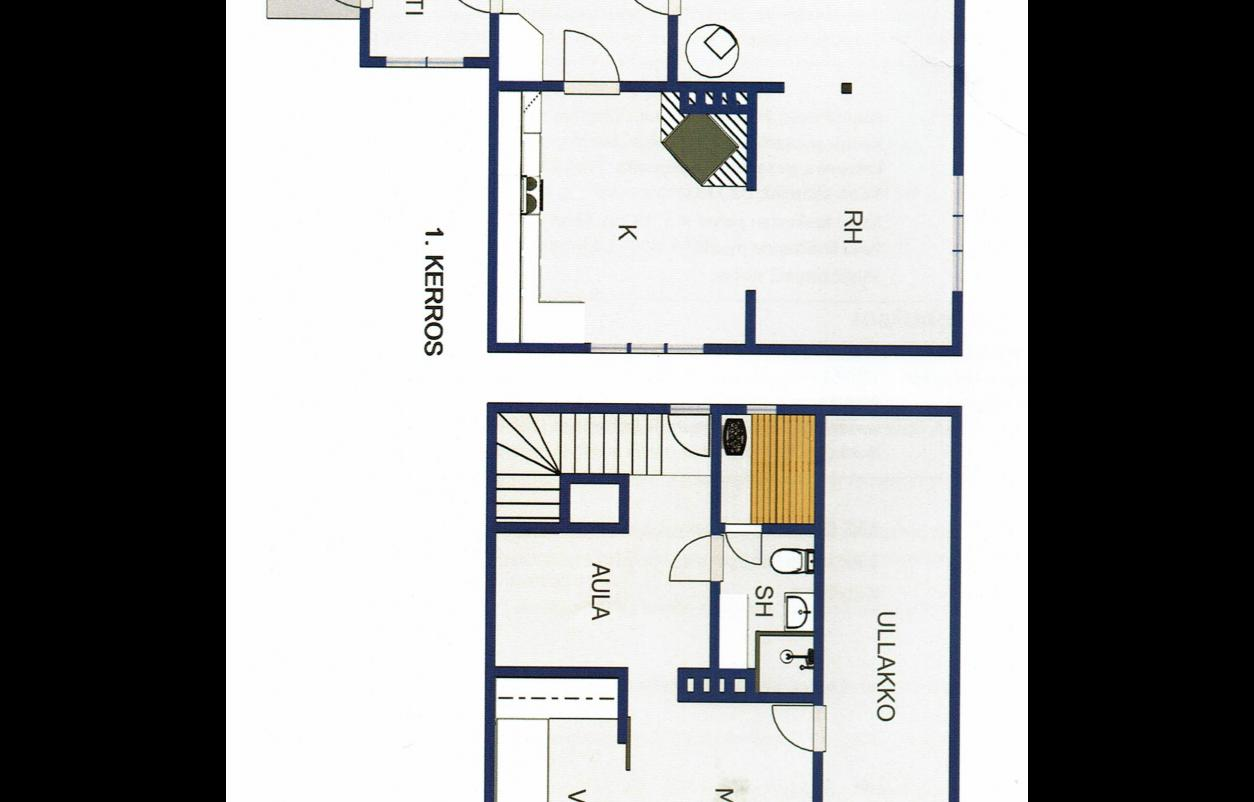door: (558, 28, 622, 96), (666, 528, 728, 588), (772, 702, 830, 760), (666, 398, 718, 462), (718, 519, 765, 567), (431, 0, 505, 16), (616, 0, 682, 17)
window: (944, 249, 976, 300), (666, 336, 714, 361), (582, 336, 632, 360), (946, 164, 968, 216), (942, 215, 973, 251), (375, 53, 429, 72), (628, 337, 668, 360), (426, 53, 468, 71), (742, 401, 782, 415)
